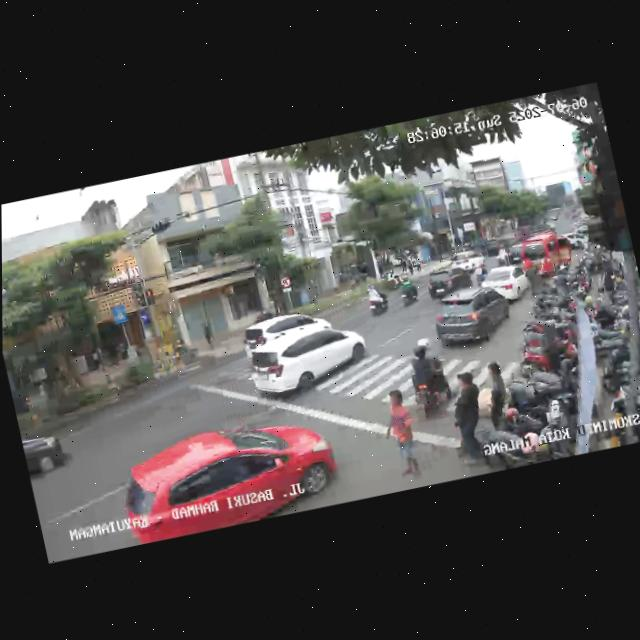car: (110, 407, 342, 548), (242, 317, 375, 407), (429, 283, 517, 355), (240, 305, 333, 356), (20, 419, 78, 486), (518, 228, 579, 283), (481, 262, 530, 303), (426, 265, 475, 302), (450, 247, 485, 273)
motorcycle: (401, 339, 456, 419), (362, 280, 392, 319), (394, 274, 421, 311), (469, 258, 488, 286)
person: (440, 369, 492, 471), (378, 384, 425, 472), (481, 358, 513, 427)
